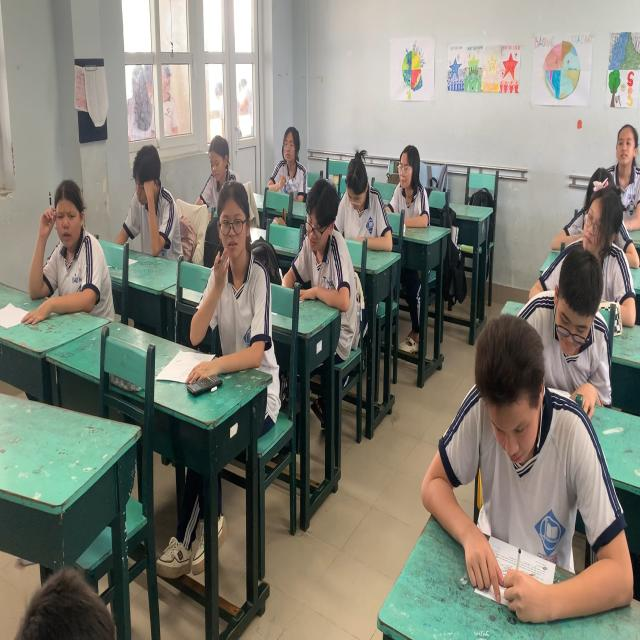not_cheating: (429, 319, 616, 594), (527, 247, 616, 412), (207, 174, 276, 370), (32, 179, 107, 317), (579, 181, 638, 327), (292, 178, 353, 308), (116, 141, 183, 255), (334, 148, 398, 251), (383, 142, 433, 232), (272, 125, 305, 212), (616, 119, 640, 228), (201, 132, 235, 201)
